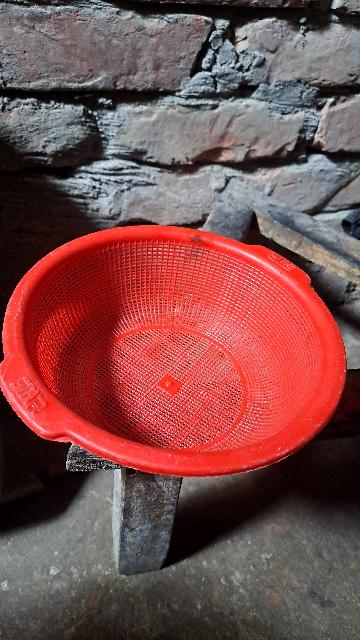hardplastic: (0, 206, 360, 484)
